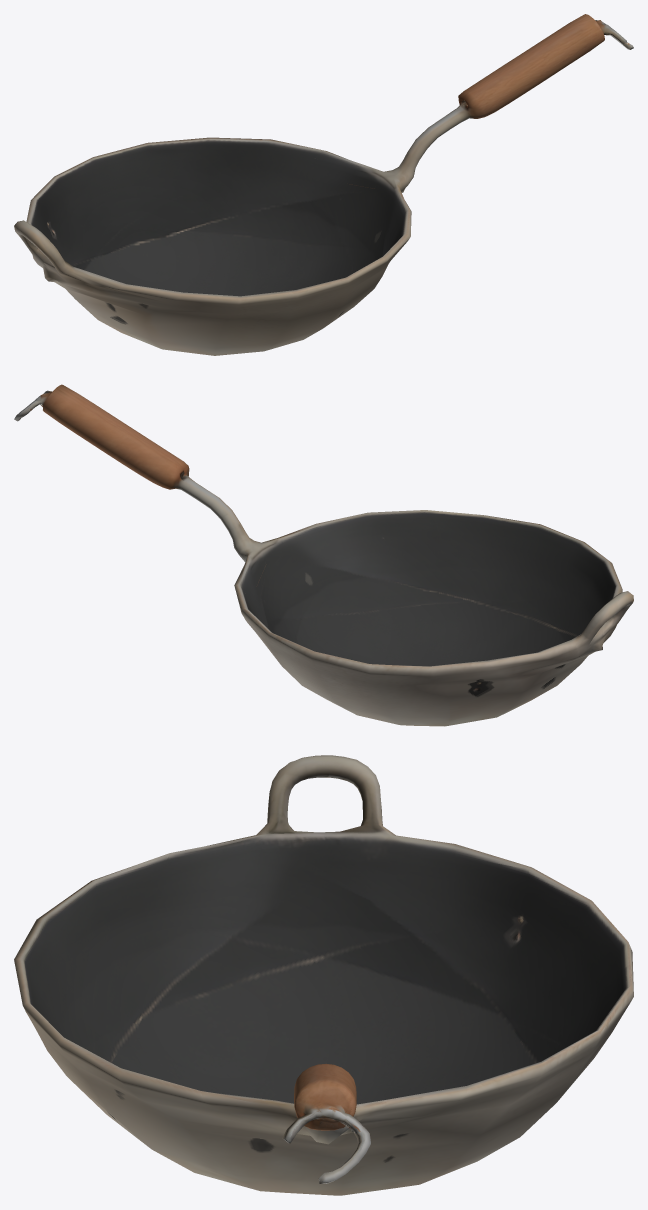
File: MDL_Prop_Common_Wok_Wok.fbx
The picture shows the model from 3 angles, top to bottom: view 1: azimuth 30°, elevation 25°; view 2: azimuth 150°, elevation 25°; view 3: azimuth 270°, elevation 25°; orthographic projection. The views are drawn at different scales.
Parts seen in each view (by area): view 1: input; view 2: input; view 3: input.
Part boxes in pixels (bbox=[...]): input: bbox=[14, 14, 633, 355]; input: bbox=[14, 384, 633, 726]; input: bbox=[14, 755, 633, 1195].
Bounding box in the file's own units: 192 × 67.63 × 104.
1 material, 1 textured.
